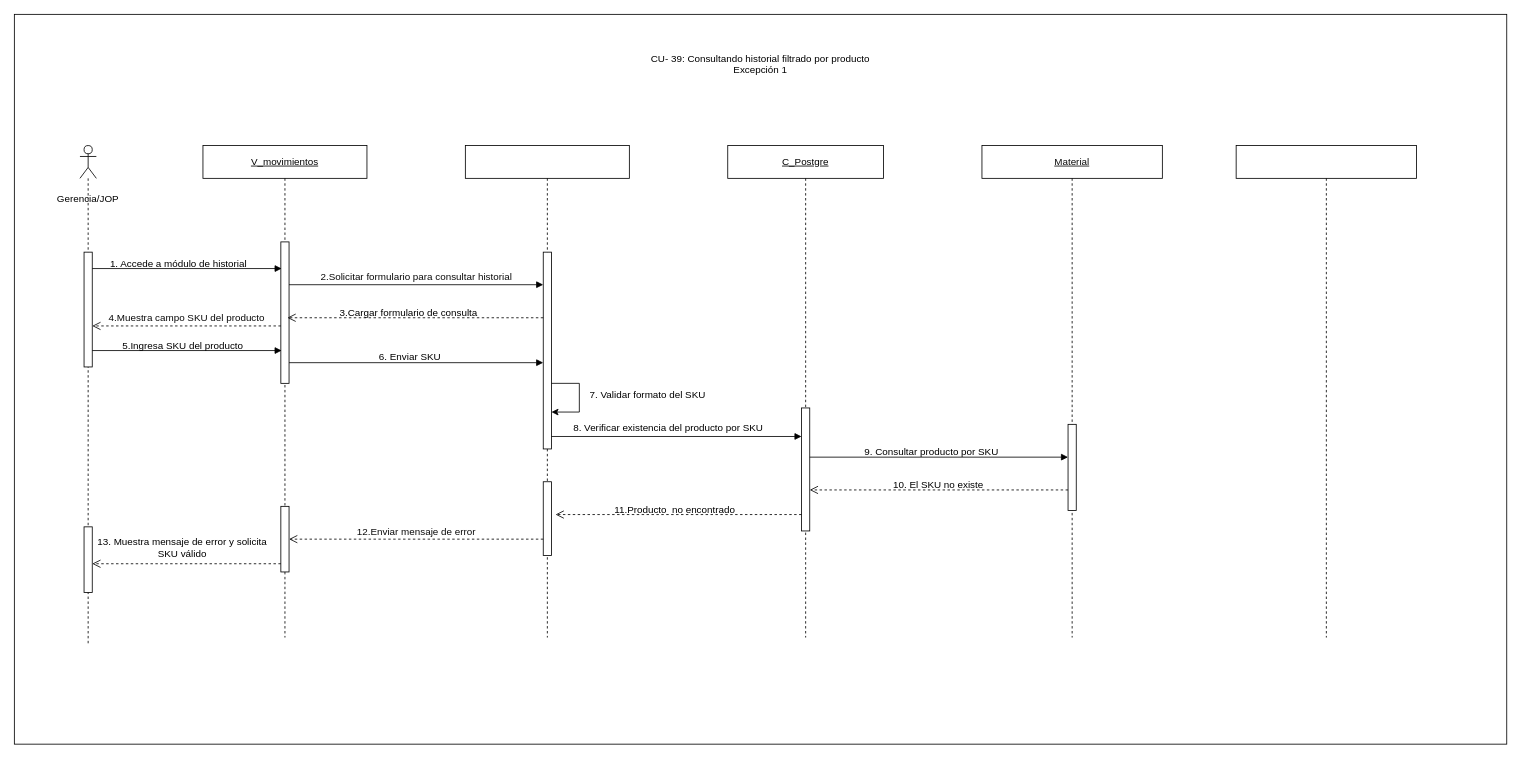
The diagram is 1521 pixels wide and 759 high, and some of its shapes have lost their labels. The shapes that lost their labels are listed below. From the top down, each one's box as (x1, y1, x2, y2) in pixels, then its label:
(465, 145, 629, 638): C_movimientos
(1235, 145, 1417, 638): Movimiento_Inventario
